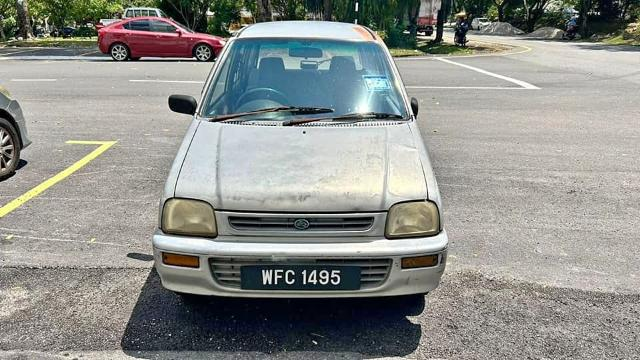License_Plate: (252, 268, 353, 291)
car: (154, 17, 448, 305)
